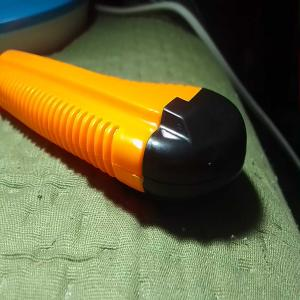estilete: (0, 49, 247, 200)
